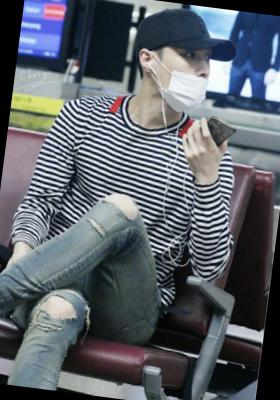mask_weared_incorrect: (145, 43, 214, 116)
